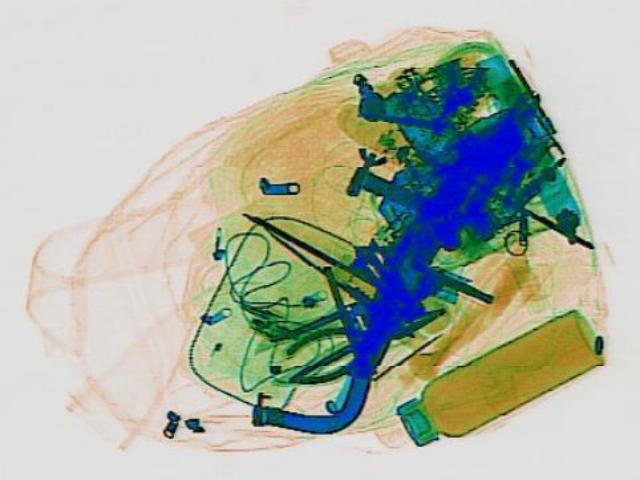Pliers: (263, 288, 461, 389)
